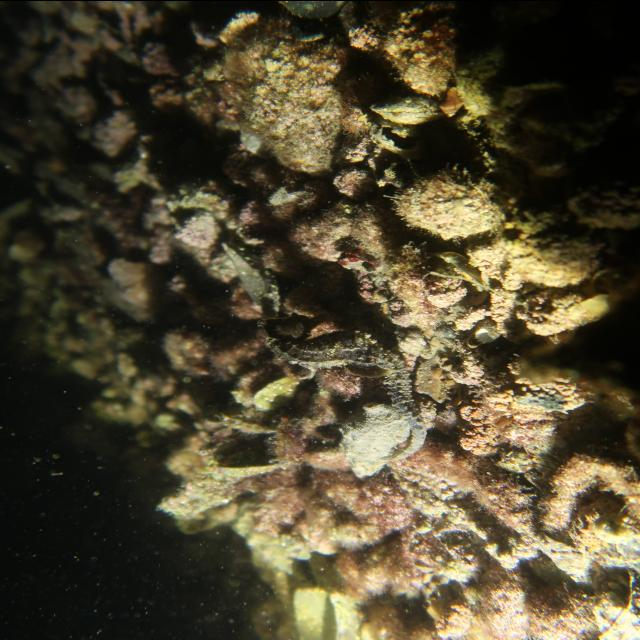Hippo: (258, 310, 328, 342)
